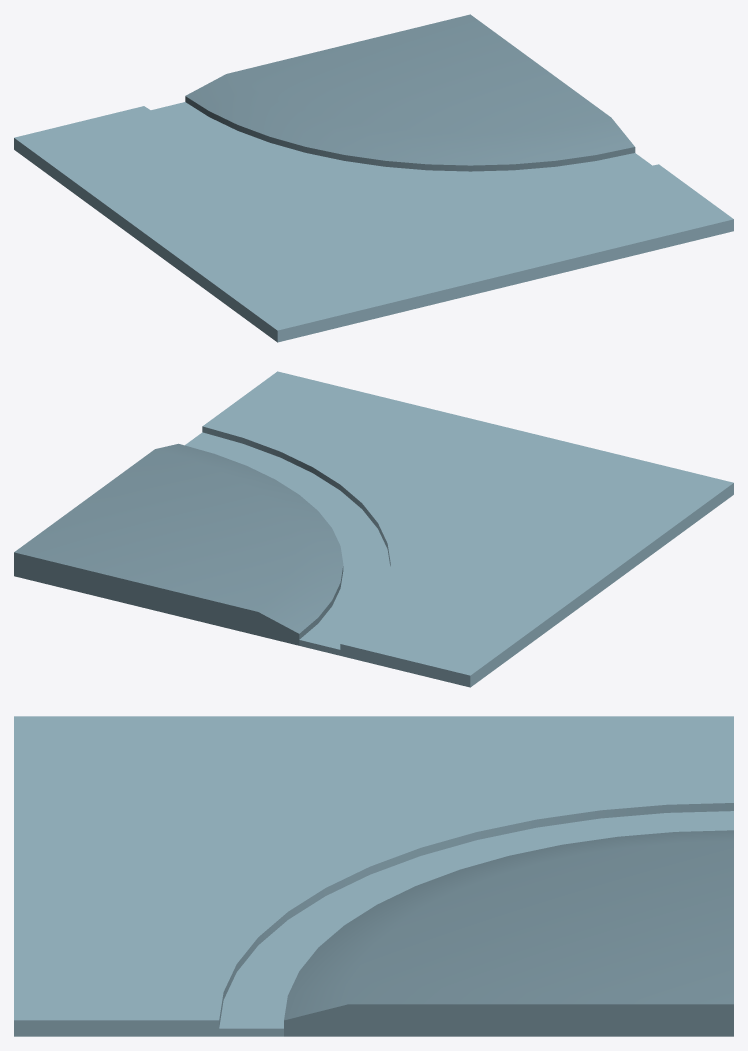
File: roadCorner.fbx
The picture shows the model from 3 angles, top to bottom: view 1: azimuth 30°, elevation 25°; view 2: azimuth 150°, elevation 25°; view 3: azimuth 270°, elevation 25°; orthographic projection. The views are drawn at different scales.
Parts seen in each view (by area): view 1: roadCorner; view 2: roadCorner; view 3: roadCorner.
Part boxes in pixels (x1,y1,x2,y2): roadCorner: [14, 14, 733, 342]; roadCorner: [14, 371, 733, 687]; roadCorner: [14, 716, 733, 1036].
Size of the model in its own units: 10 by 0.5 by 10.
